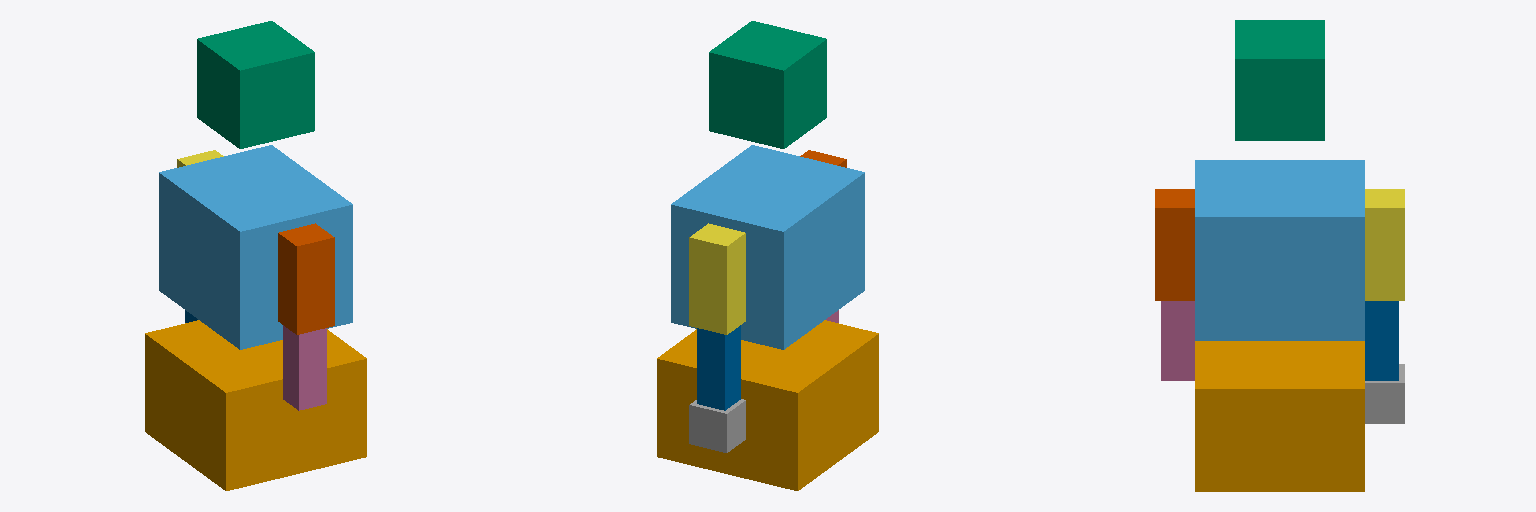
URDF robot description (dynamic_benchmark_upper_body):
<?xml version="1.0"?>
<robot name="dynamic_benchmark_upper_body">
  <link name="base_link">
    <inertial>
      <origin xyz="0 0 0" rpy="0 0 0"/>
      <mass value="5.0"/>
      <inertia ixx="0.05" ixy="0" ixz="0" iyy="0.05" iyz="0" izz="0.05"/>
    </inertial>
    <visual>
      <origin xyz="0 0 0" rpy="0 0 0"/>
      <geometry><box size="0.30 0.30 0.20"/></geometry>
    </visual>
    <collision>
      <origin xyz="0 0 0" rpy="0 0 0"/>
      <geometry><box size="0.30 0.30 0.20"/></geometry>
    </collision>
  </link>

  <link name="waist_link">
    <inertial>
      <origin xyz="0 0 0.10" rpy="0 0 0"/>
      <mass value="1.5"/>
      <inertia ixx="0.02" ixy="0" ixz="0" iyy="0.02" iyz="0" izz="0.02"/>
    </inertial>
    <visual>
      <origin xyz="0 0 0.10" rpy="0 0 0"/>
      <geometry><box size="0.24 0.30 0.24"/></geometry>
    </visual>
    <collision>
      <origin xyz="0 0 0.10" rpy="0 0 0"/>
      <geometry><box size="0.24 0.30 0.24"/></geometry>
    </collision>
  </link>

  <link name="head_link">
    <inertial>
      <origin xyz="0 0 0.08" rpy="0 0 0"/>
      <mass value="0.5"/>
      <inertia ixx="0.005" ixy="0" ixz="0" iyy="0.005" iyz="0" izz="0.005"/>
    </inertial>
    <visual>
      <origin xyz="0 0 0.08" rpy="0 0 0"/>
      <geometry><box size="0.16 0.16 0.16"/></geometry>
    </visual>
    <collision>
      <origin xyz="0 0 0.08" rpy="0 0 0"/>
      <geometry><box size="0.16 0.16 0.16"/></geometry>
    </collision>
  </link>

  <link name="left_upper_link">
    <inertial>
      <origin xyz="0 0 -0.09" rpy="0 0 0"/>
      <mass value="0.8"/>
      <inertia ixx="0.01" ixy="0" ixz="0" iyy="0.01" iyz="0" izz="0.01"/>
    </inertial>
    <visual>
      <origin xyz="0 0 -0.09" rpy="0 0 0"/>
      <geometry><box size="0.08 0.08 0.18"/></geometry>
    </visual>
    <collision>
      <origin xyz="0 0 -0.09" rpy="0 0 0"/>
      <geometry><box size="0.08 0.08 0.18"/></geometry>
    </collision>
  </link>

  <link name="left_forearm_link">
    <inertial>
      <origin xyz="0 0 -0.08" rpy="0 0 0"/>
      <mass value="0.5"/>
      <inertia ixx="0.005" ixy="0" ixz="0" iyy="0.005" iyz="0" izz="0.005"/>
    </inertial>
    <visual>
      <origin xyz="0 0 -0.08" rpy="0 0 0"/>
      <geometry><box size="0.06 0.06 0.16"/></geometry>
    </visual>
    <collision>
      <origin xyz="0 0 -0.08" rpy="0 0 0"/>
      <geometry><box size="0.06 0.06 0.16"/></geometry>
    </collision>
  </link>

  <link name="right_upper_link">
    <inertial>
      <origin xyz="0 0 -0.09" rpy="0 0 0"/>
      <mass value="0.8"/>
      <inertia ixx="0.01" ixy="0" ixz="0" iyy="0.01" iyz="0" izz="0.01"/>
    </inertial>
    <visual>
      <origin xyz="0 0 -0.09" rpy="0 0 0"/>
      <geometry><box size="0.08 0.08 0.18"/></geometry>
    </visual>
    <collision>
      <origin xyz="0 0 -0.09" rpy="0 0 0"/>
      <geometry><box size="0.08 0.08 0.18"/></geometry>
    </collision>
  </link>

  <link name="right_forearm_link">
    <inertial>
      <origin xyz="0 0 -0.08" rpy="0 0 0"/>
      <mass value="0.5"/>
      <inertia ixx="0.005" ixy="0" ixz="0" iyy="0.005" iyz="0" izz="0.005"/>
    </inertial>
    <visual>
      <origin xyz="0 0 -0.08" rpy="0 0 0"/>
      <geometry><box size="0.06 0.06 0.16"/></geometry>
    </visual>
    <collision>
      <origin xyz="0 0 -0.08" rpy="0 0 0"/>
      <geometry><box size="0.06 0.06 0.16"/></geometry>
    </collision>
  </link>

  <link name="benchmark_payload_link">
    <inertial>
      <origin xyz="0 0 -0.04" rpy="0 0 0"/>
      <mass value="0.4"/>
      <inertia ixx="0.002" ixy="0" ixz="0" iyy="0.002" iyz="0" izz="0.002"/>
    </inertial>
    <visual>
      <origin xyz="0 0 -0.04" rpy="0 0 0"/>
      <geometry><box size="0.08 0.08 0.08"/></geometry>
    </visual>
    <collision>
      <origin xyz="0 0 -0.04" rpy="0 0 0"/>
      <geometry><box size="0.08 0.08 0.08"/></geometry>
    </collision>
  </link>

  <joint name="waist_yaw" type="revolute">
    <parent link="base_link"/>
    <child link="waist_link"/>
    <origin xyz="0 0 0.20" rpy="0 0 0"/>
    <axis xyz="0 0 1"/>
    <limit lower="-1.57" upper="1.57" effort="20" velocity="3"/>
  </joint>

  <joint name="head_yaw" type="revolute">
    <parent link="waist_link"/>
    <child link="head_link"/>
    <origin xyz="0 0 0.35" rpy="0 0 0"/>
    <axis xyz="0 0 1"/>
    <limit lower="-1.57" upper="1.57" effort="10" velocity="3"/>
  </joint>

  <joint name="left_shoulder_pitch" type="revolute">
    <parent link="waist_link"/>
    <child link="left_upper_link"/>
    <origin xyz="0 0.18 0.20" rpy="0 0 0"/>
    <axis xyz="0 1 0"/>
    <limit lower="-1.57" upper="1.57" effort="20" velocity="3"/>
  </joint>

  <joint name="left_elbow_pitch" type="revolute">
    <parent link="left_upper_link"/>
    <child link="left_forearm_link"/>
    <origin xyz="0 0 -0.18" rpy="0 0 0"/>
    <axis xyz="0 1 0"/>
    <limit lower="-1.57" upper="1.57" effort="20" velocity="3"/>
  </joint>

  <joint name="right_shoulder_pitch" type="revolute">
    <parent link="waist_link"/>
    <child link="right_upper_link"/>
    <origin xyz="0 -0.18 0.20" rpy="0 0 0"/>
    <axis xyz="0 1 0"/>
    <limit lower="-1.57" upper="1.57" effort="20" velocity="3"/>
  </joint>

  <joint name="right_elbow_pitch" type="revolute">
    <parent link="right_upper_link"/>
    <child link="right_forearm_link"/>
    <origin xyz="0 0 -0.18" rpy="0 0 0"/>
    <axis xyz="0 1 0"/>
    <limit lower="-1.57" upper="1.57" effort="20" velocity="3"/>
  </joint>

  <joint name="payload_mount" type="fixed">
    <parent link="left_forearm_link"/>
    <child link="benchmark_payload_link"/>
    <origin xyz="0 0 -0.16" rpy="0 0 0"/>
  </joint>
</robot>

--- Render facts (derived) ---
The picture shows the robot from 3 angles, left to right: view 1: azimuth 30°, elevation 25°; view 2: azimuth 150°, elevation 25°; view 3: azimuth 270°, elevation 25°; orthographic projection.
Model dynamic_benchmark_upper_body with 8 links and 7 joints (6 revolute, 1 fixed), rooted at base_link, posed all joints at 0.
Visible links, largest first — view 1: base_link, waist_link, head_link, right_upper_link, right_forearm_link; view 2: waist_link, base_link, head_link, left_upper_link, left_forearm_link, benchmark_payload_link; view 3: waist_link, base_link, head_link, left_upper_link, right_upper_link, left_forearm_link, right_forearm_link, benchmark_payload_link.
Boxes of the visible links, left/top/right/bottom form: base_link: left=145, top=320, right=366, bottom=490; waist_link: left=159, top=145, right=352, bottom=349; head_link: left=197, top=21, right=314, bottom=148; right_upper_link: left=278, top=223, right=334, bottom=334; right_forearm_link: left=283, top=325, right=326, bottom=410; waist_link: left=671, top=145, right=864, bottom=349; base_link: left=657, top=320, right=878, bottom=490; head_link: left=709, top=21, right=826, bottom=148; left_upper_link: left=689, top=223, right=745, bottom=334; left_forearm_link: left=697, top=325, right=740, bottom=410; benchmark_payload_link: left=689, top=399, right=745, bottom=452; waist_link: left=1195, top=160, right=1364, bottom=340; base_link: left=1195, top=341, right=1364, bottom=491; head_link: left=1235, top=20, right=1324, bottom=140; left_upper_link: left=1365, top=189, right=1404, bottom=300; right_upper_link: left=1155, top=189, right=1194, bottom=300; left_forearm_link: left=1365, top=301, right=1398, bottom=380; right_forearm_link: left=1161, top=301, right=1194, bottom=380; benchmark_payload_link: left=1365, top=364, right=1404, bottom=423.
Size in the robot's own frame: 0.3 by 0.44 by 0.81 metres.
Geometry: primitives only (box / cylinder / sphere), no mesh files.
